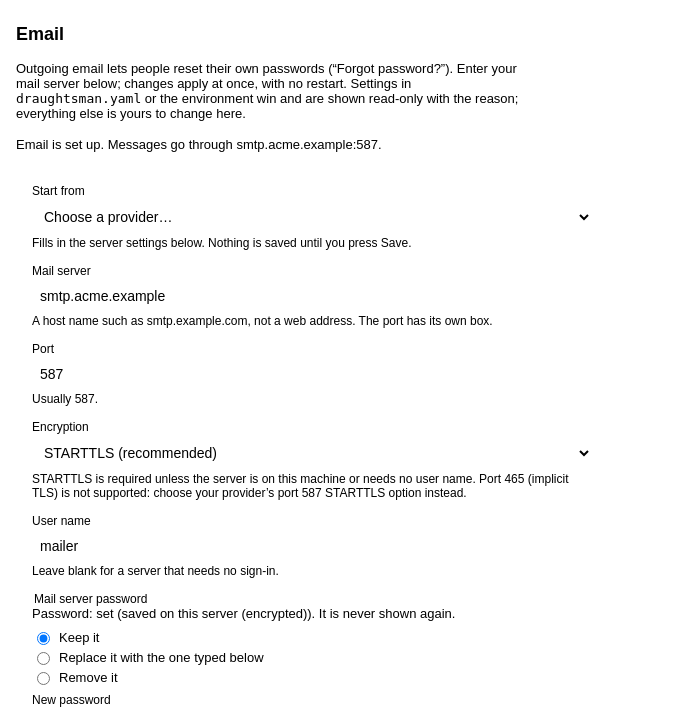
EmailPage › save › is off until something changes, then sends the form, applies the answer and says no restart is needed
Replace the text in the field labelled "Mail server" with "smtp.office365.com" at (312, 296), box [32,282,592,310]
(page scrolled)
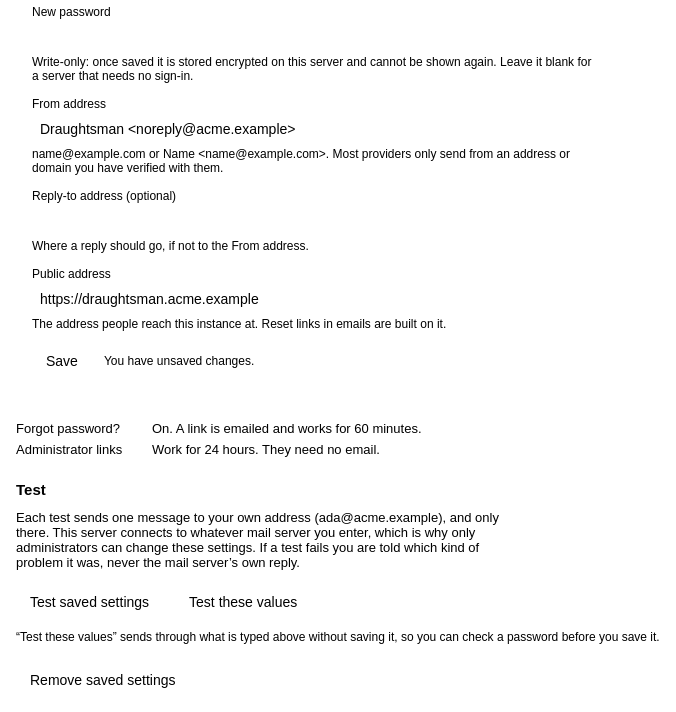
expect the button "Save" is enabled: met
expect the text "You have unsaved changes." is shown: met, box [104,354,254,368]
Click the button "Save" at (62, 361), box [32,345,92,377]
(page scrolled)
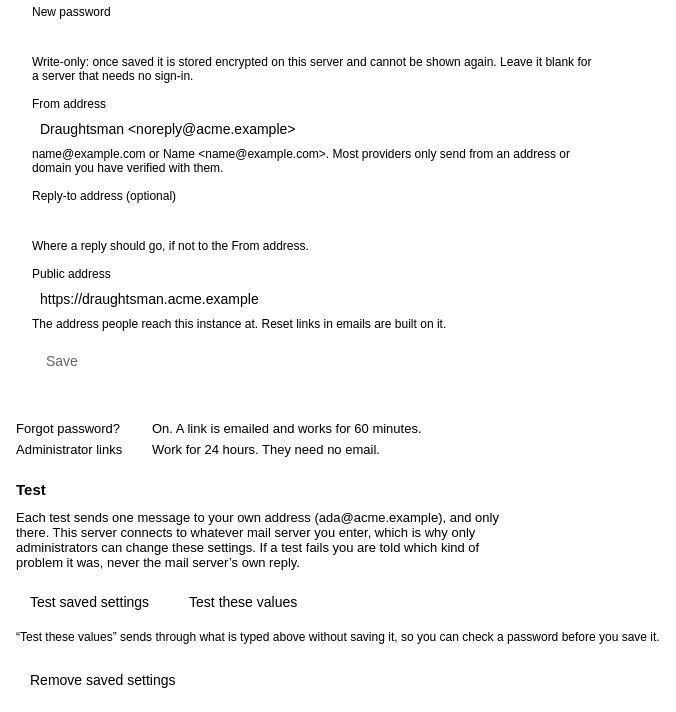
expect the button "Save" is disabled: met, box [32,345,92,377]
